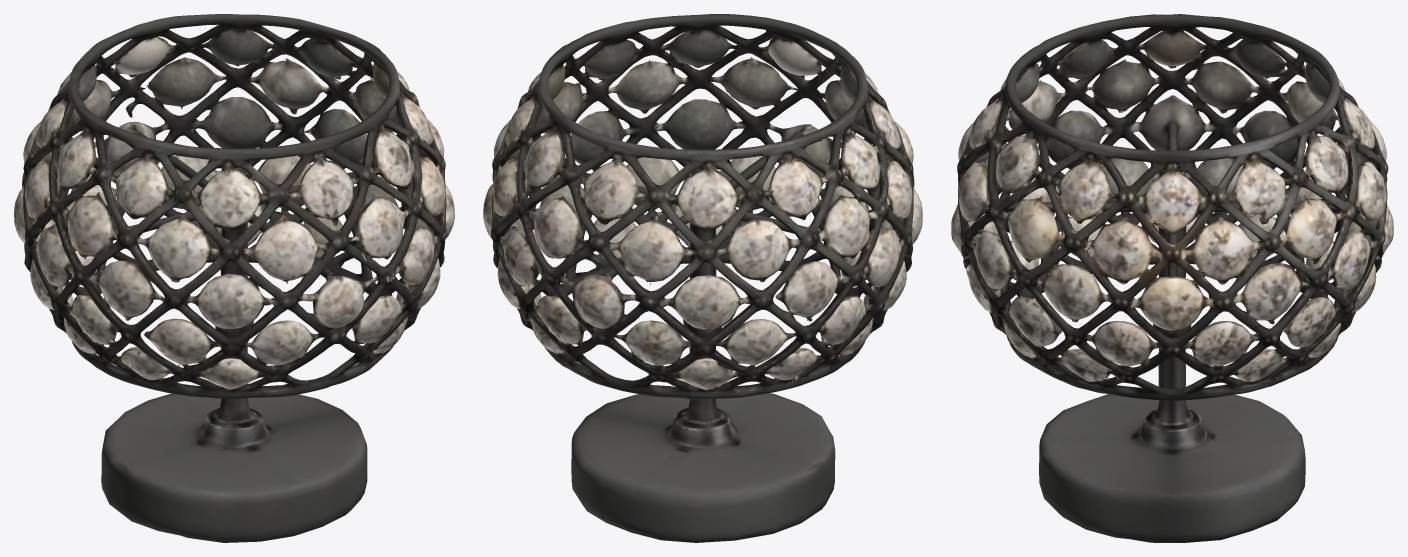
Rendered from lamp1.glb.
3 renders of one model, left to right at view 1: azimuth 30°, elevation 25°; view 2: azimuth 150°, elevation 25°; view 3: azimuth 270°, elevation 25°, orthographic.
Parts seen in each view (by area): view 1: tripo_node_286e6ff9; view 2: tripo_node_286e6ff9; view 3: tripo_node_286e6ff9.
Part boxes in pixels (bbox=[...]): tripo_node_286e6ff9: bbox=[14, 14, 454, 542]; tripo_node_286e6ff9: bbox=[483, 14, 922, 542]; tripo_node_286e6ff9: bbox=[951, 14, 1393, 542].
Size of the model in its own units: 0.5407 by 0.5526 by 0.543.
1 material, 1 textured.
